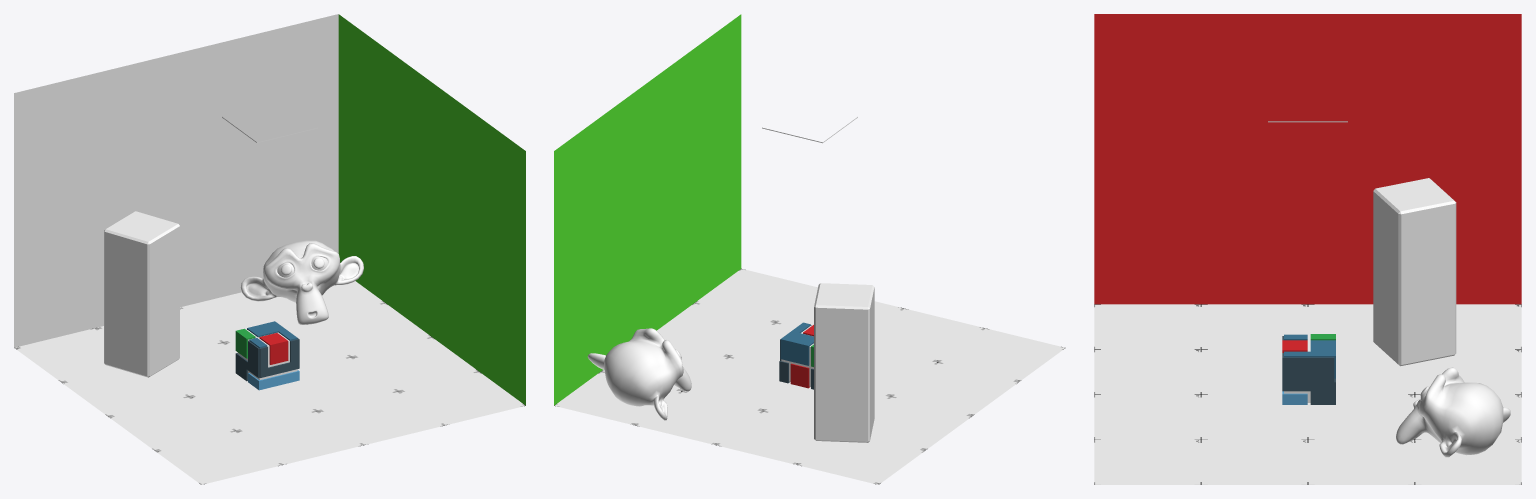
File: cornellBox-PBR.gltf
3 views of the same model, side by side, from view 1: azimuth 30°, elevation 25°; view 2: azimuth 150°, elevation 25°; view 3: azimuth 270°, elevation 25° (orthographic). The views are drawn at different scales.
Visible parts, largest first — view 1: cornellBox.000, bloc.000, suzanne.000, BJSlogo.000; view 2: cornellBox.000, bloc.000, suzanne.000, BJSlogo.000; view 3: cornellBox.000, bloc.000, suzanne.000, BJSlogo.000.
Part boxes in pixels (x1,y1,x2,y2): cornellBox.000: [14, 14, 525, 484]; bloc.000: [104, 211, 179, 377]; suzanne.000: [240, 240, 363, 324]; BJSlogo.000: [235, 321, 299, 390]; cornellBox.000: [554, 14, 1065, 484]; bloc.000: [814, 283, 874, 442]; suzanne.000: [587, 328, 691, 420]; BJSlogo.000: [779, 322, 813, 389]; cornellBox.000: [1094, 14, 1521, 484]; bloc.000: [1373, 178, 1456, 366]; suzanne.000: [1396, 367, 1510, 457]; BJSlogo.000: [1282, 334, 1335, 404].
Size of the model in its own units: 4 by 3 by 4.
13 materials, 1 textured.
